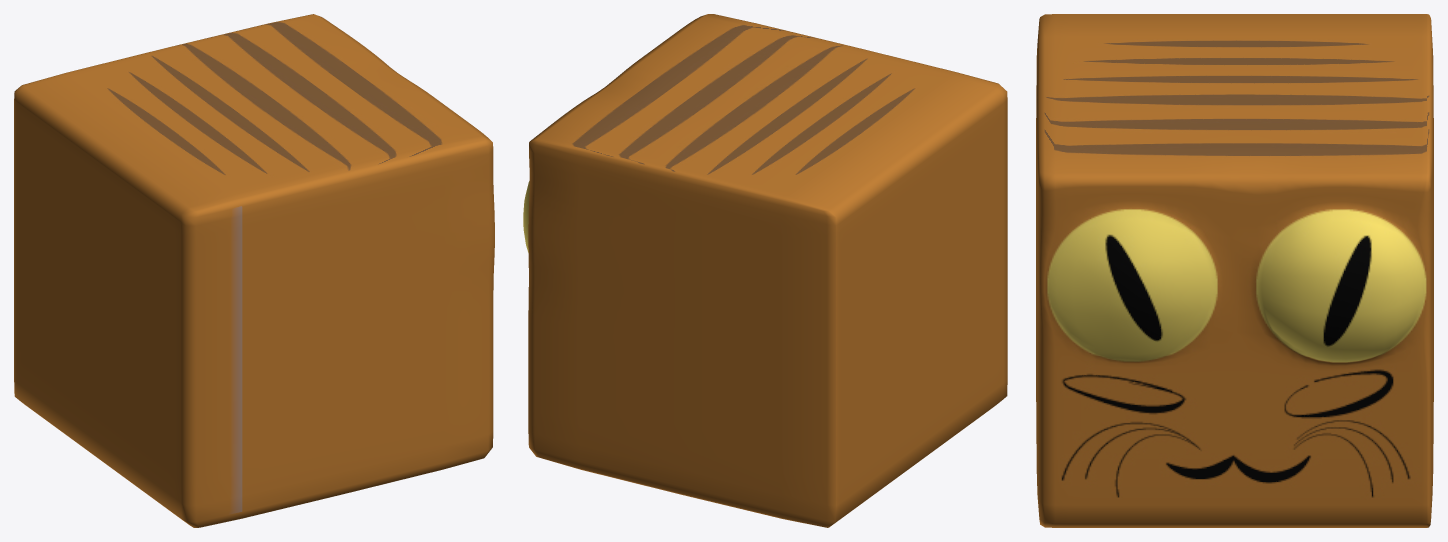
The model's file is Cat_model_updated 1.fbx.
3 views of the same model, side by side, from view 1: azimuth 30°, elevation 25°; view 2: azimuth 150°, elevation 25°; view 3: azimuth 270°, elevation 25° (orthographic). The views are drawn at different scales.
Visible parts, largest first — view 1: Character_cube; view 2: Character_cube; view 3: Character_cube.
Boxes of the visible parts, x1,y1,x2,y2 form: Character_cube: (14,14,494,527); Character_cube: (523,14,1007,527); Character_cube: (1036,14,1433,527).
Size of the model in its own units: 109 by 99.89 by 99.89.
